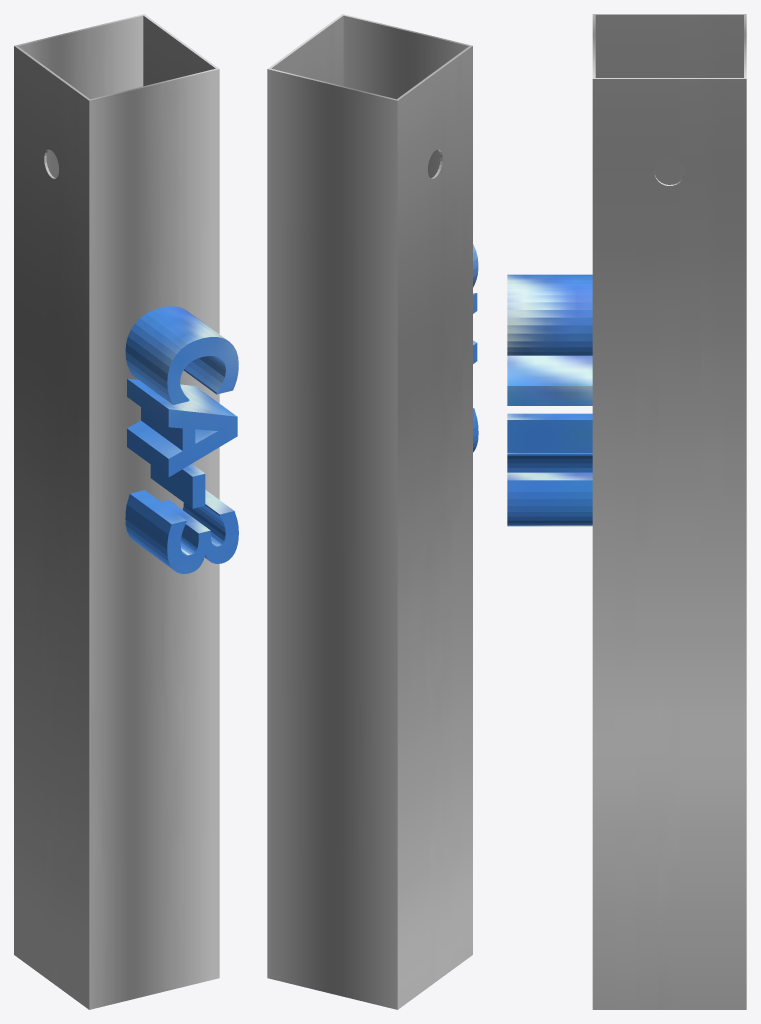
File: CA-3 REV.glb
3 renders of one model, left to right at view 1: azimuth 30°, elevation 25°; view 2: azimuth 150°, elevation 25°; view 3: azimuth 270°, elevation 25°, orthographic. The views are drawn at different scales.
Visible parts, largest first — view 1: G-Object, C-CA-3; view 2: G-Object, C-CA-3; view 3: G-Object, C-CA-3.
Boxes of the visible parts, left/top/right/bottom form: G-Object: left=14, top=14, right=219, bottom=1009; C-CA-3: left=125, top=306, right=238, bottom=573; G-Object: left=267, top=14, right=472, bottom=1009; C-CA-3: left=473, top=244, right=478, bottom=452; G-Object: left=592, top=14, right=746, bottom=1009; C-CA-3: left=507, top=274, right=592, bottom=526.
Size of what is drawn, in the model's own units: 0.045 by 0.3 by 0.07.
Materials: 2 (2 with a texture image).
